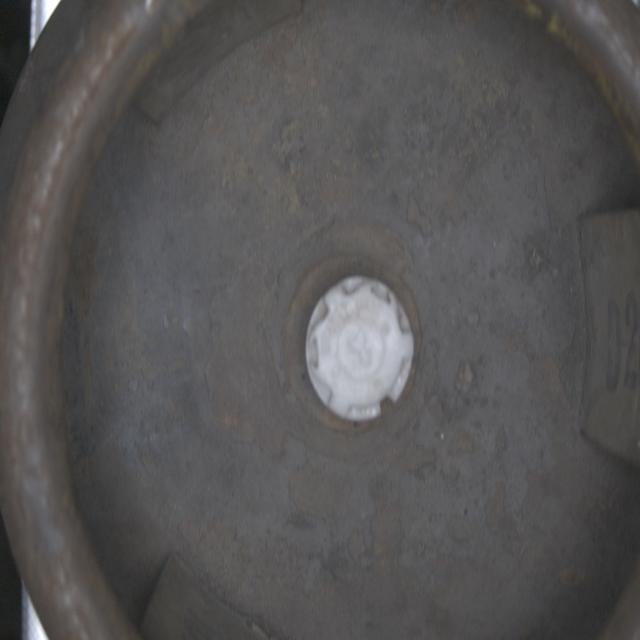Cap: (307, 278, 416, 424)
